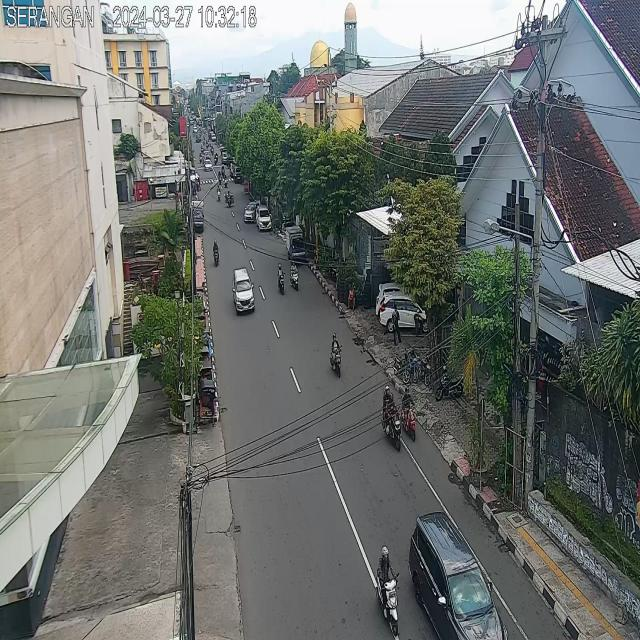car: (409, 508, 508, 640), (232, 267, 255, 314), (256, 205, 272, 230), (245, 201, 260, 222), (204, 160, 212, 172), (204, 152, 210, 160)
motorcycle: (376, 542, 399, 639), (382, 383, 402, 455), (399, 384, 416, 444), (330, 332, 342, 378), (276, 260, 286, 296), (290, 261, 299, 292), (212, 240, 220, 268), (225, 190, 234, 208), (217, 186, 221, 203), (221, 163, 225, 179), (218, 170, 222, 185), (224, 174, 228, 187), (199, 152, 202, 164), (214, 156, 216, 166), (216, 153, 218, 163)
truck: (286, 227, 306, 262)
